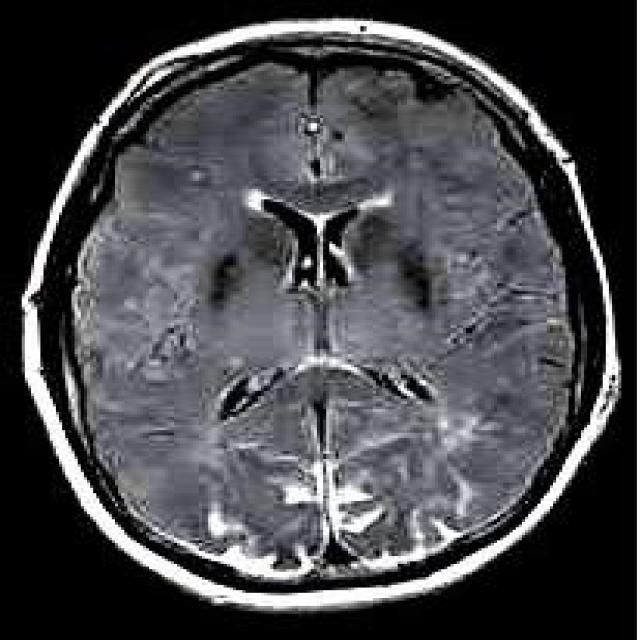notumor: (22, 21, 618, 606)
